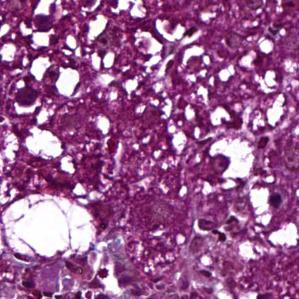ballooning: (0, 193, 100, 265), (208, 133, 259, 181)
